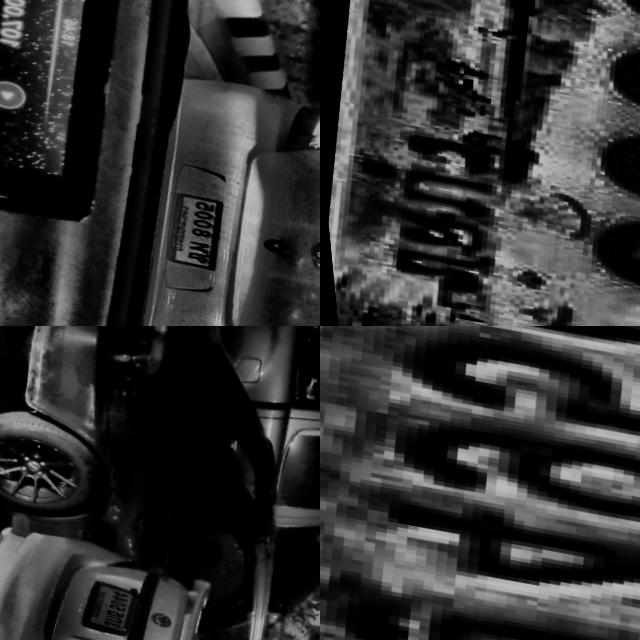license-plate: (320, 0, 640, 326), (320, 326, 640, 640), (152, 192, 226, 276), (72, 578, 138, 640)
